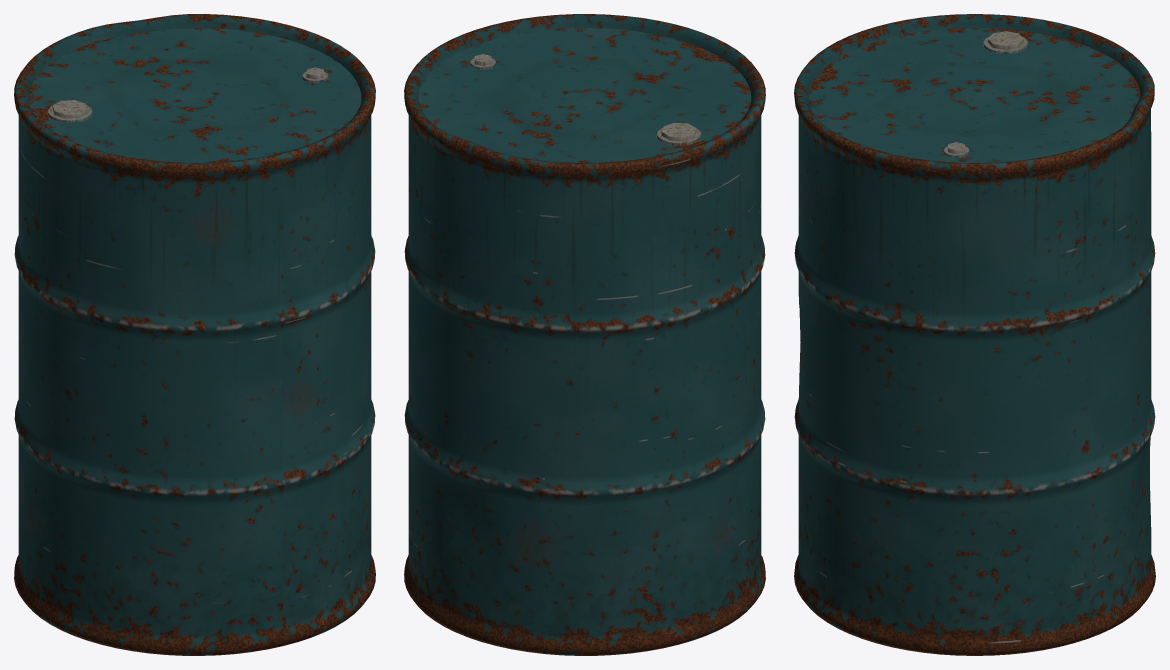
Rendered from steel-drum-v1-lod0.glb.
3 views of the same model, side by side, from view 1: azimuth 30°, elevation 25°; view 2: azimuth 150°, elevation 25°; view 3: azimuth 270°, elevation 25° (orthographic).
Visible parts, largest first — view 1: steel-drum_lod0; view 2: steel-drum_lod0; view 3: steel-drum_lod0.
Boxes of the visible parts, <box> form: steel-drum_lod0: <box>14,14,375,655</box>; steel-drum_lod0: <box>404,14,765,655</box>; steel-drum_lod0: <box>794,14,1155,655</box>.
Size of the model in its own units: 0.587 by 0.88 by 0.587.
1 material, 1 textured.
